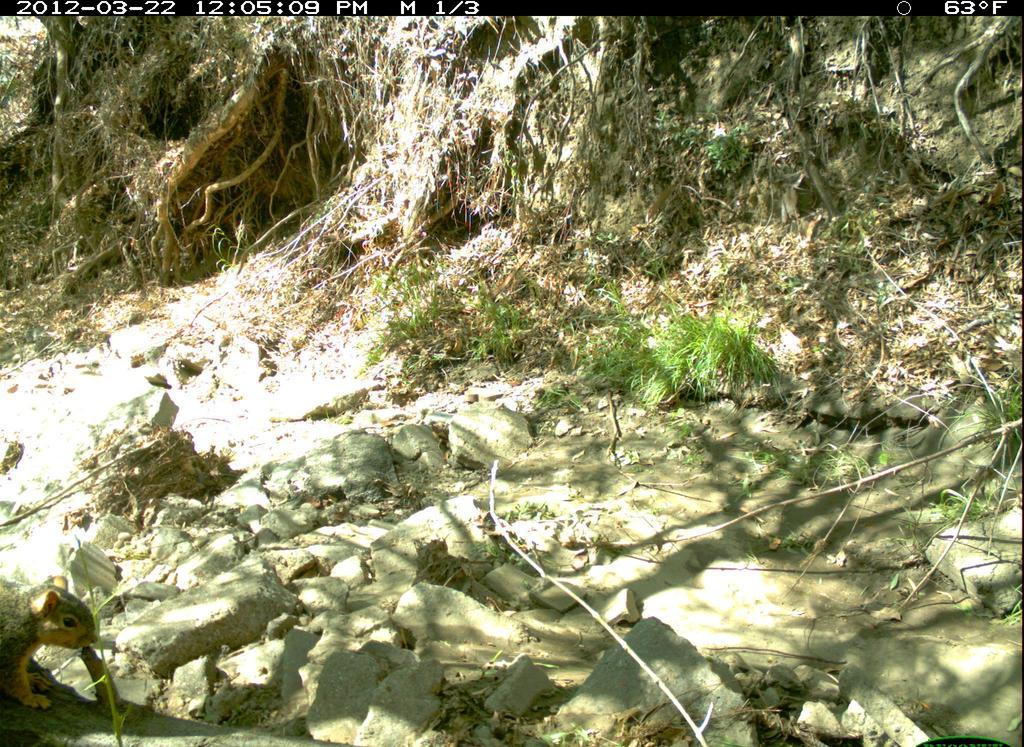squirrel: (2, 551, 111, 726)
